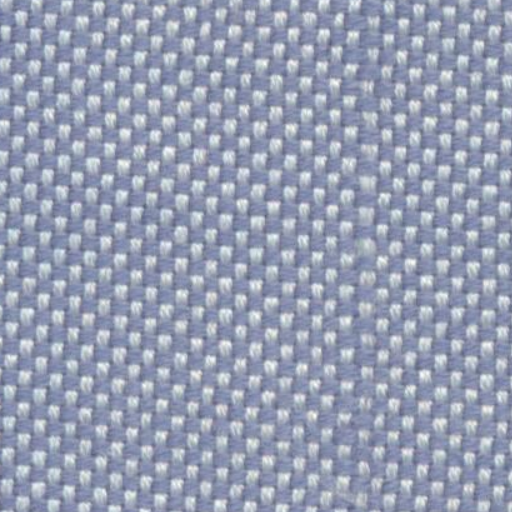TuoSha: (320, 16, 388, 502)
